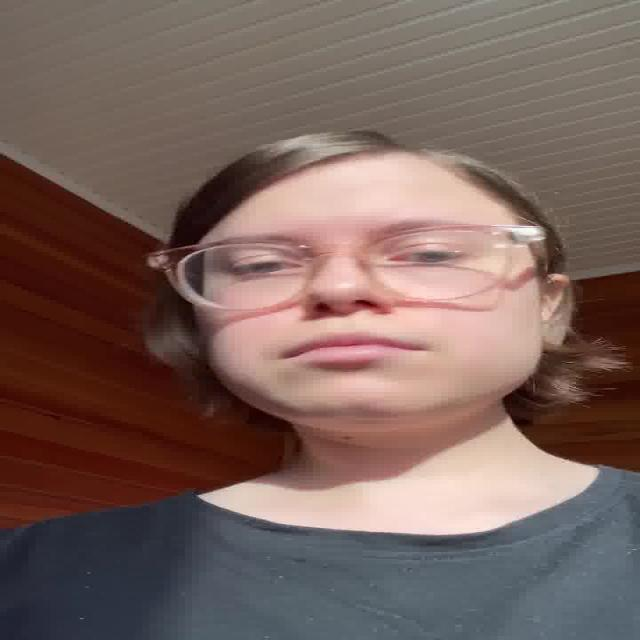eye: (225, 256, 307, 278), (386, 246, 467, 264)
nose: (306, 307, 398, 332)
wholeear: (543, 274, 570, 324)
